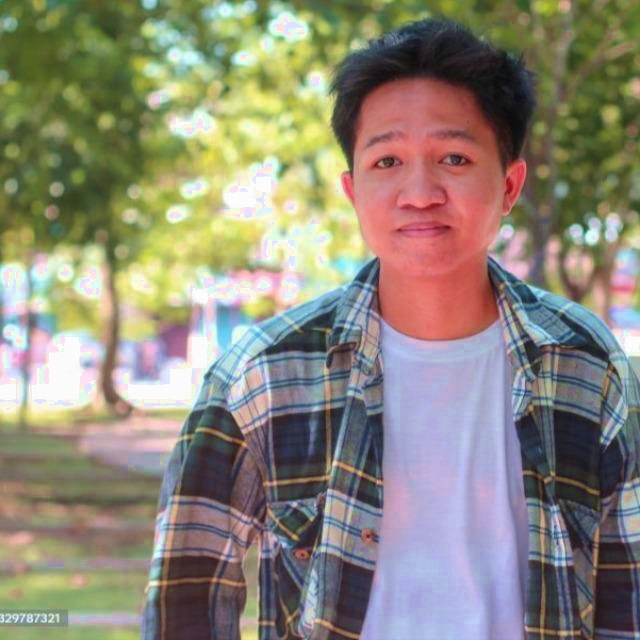Sin_Casco_Mascarrilla: (329, 23, 537, 275)
Sin_Chaleco: (229, 276, 638, 640)
